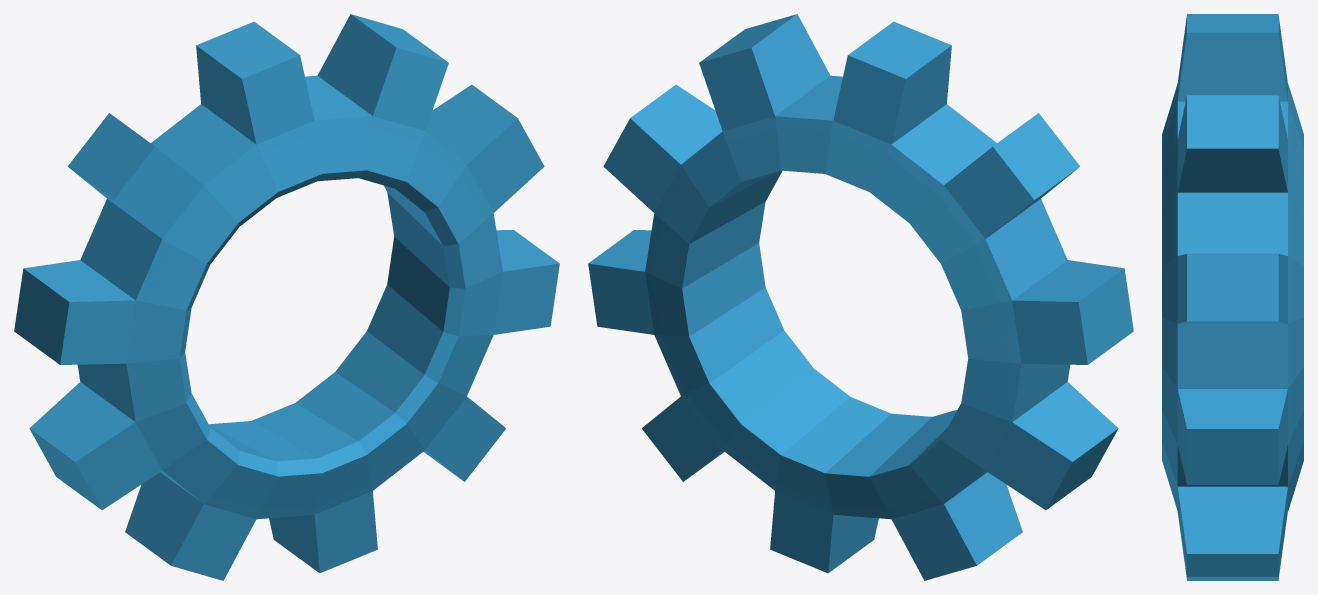
The model's file is Gear_Diam_03_Size_2.fbx.
3 renders of one model, left to right at view 1: azimuth 30°, elevation 25°; view 2: azimuth 150°, elevation 25°; view 3: azimuth 270°, elevation 25°, orthographic.
Parts seen in each view (by area): view 1: Gear_Diam_03_Size_2; view 2: Gear_Diam_03_Size_2; view 3: Gear_Diam_03_Size_2.
Boxes of the visible parts, x1,y1,x2,y2 form: Gear_Diam_03_Size_2: (14, 14, 559, 580); Gear_Diam_03_Size_2: (588, 14, 1133, 580); Gear_Diam_03_Size_2: (1162, 14, 1303, 580).
Bounding box in the file's own units: 14.73 × 14.73 × 3.64.
